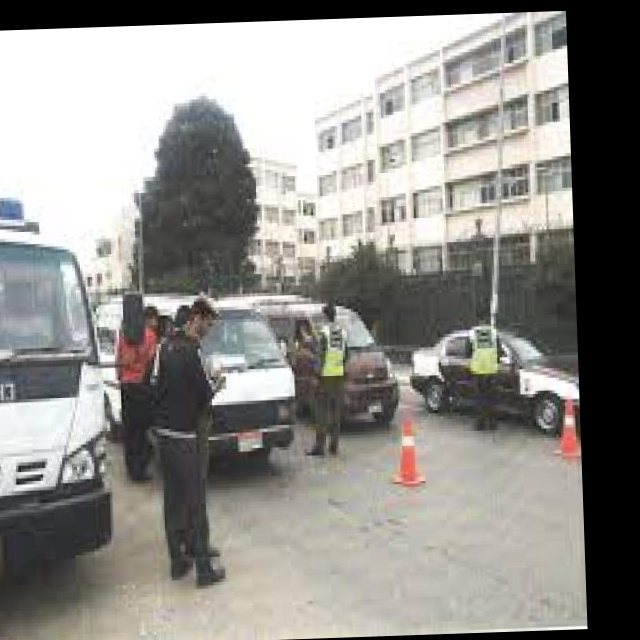car: (194, 286, 302, 522), (410, 320, 581, 443)
person: (114, 302, 231, 567), (299, 299, 353, 456)
police-car: (0, 135, 104, 600)
